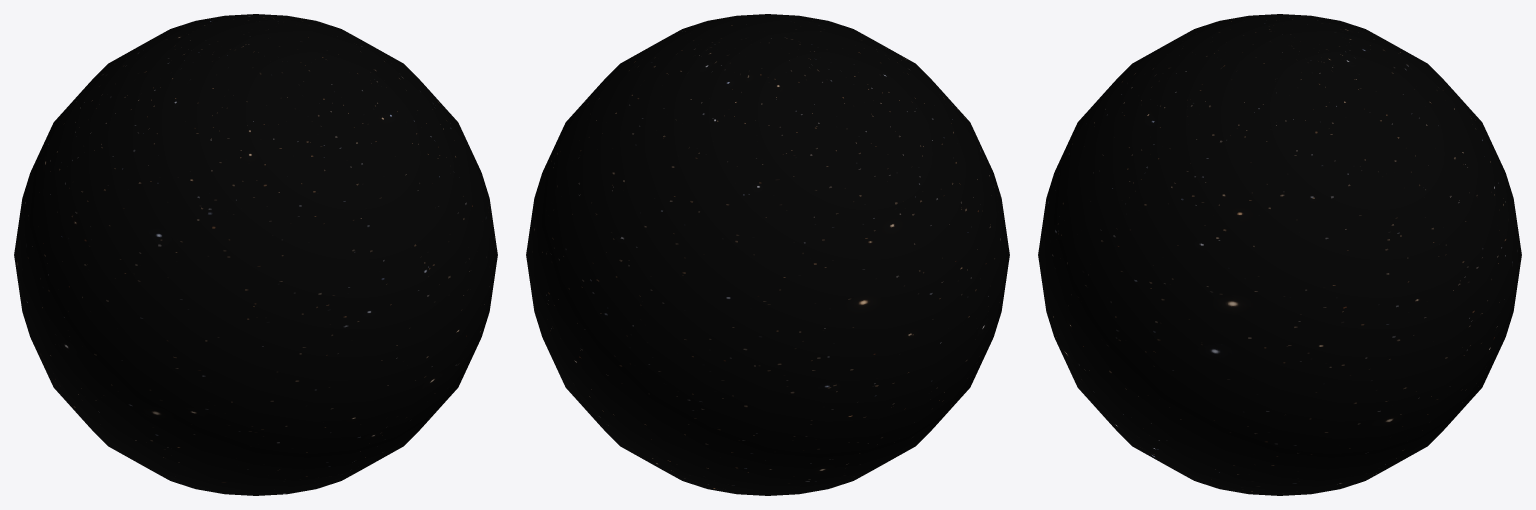
Rendered from Skybox.obj.
3 views of the same model, side by side, from view 1: azimuth 30°, elevation 25°; view 2: azimuth 150°, elevation 25°; view 3: azimuth 270°, elevation 25° (orthographic).
Visible parts, largest first — view 1: Skybox; view 2: Skybox; view 3: Skybox.
Boxes of the visible parts, x1,y1,x2,y2 form: Skybox: (14,14,497,495); Skybox: (526,14,1009,495); Skybox: (1038,14,1521,495).
Bounding box in the file's own units: 394 × 394 × 394.
Materials: 1 (1 with a texture image).
